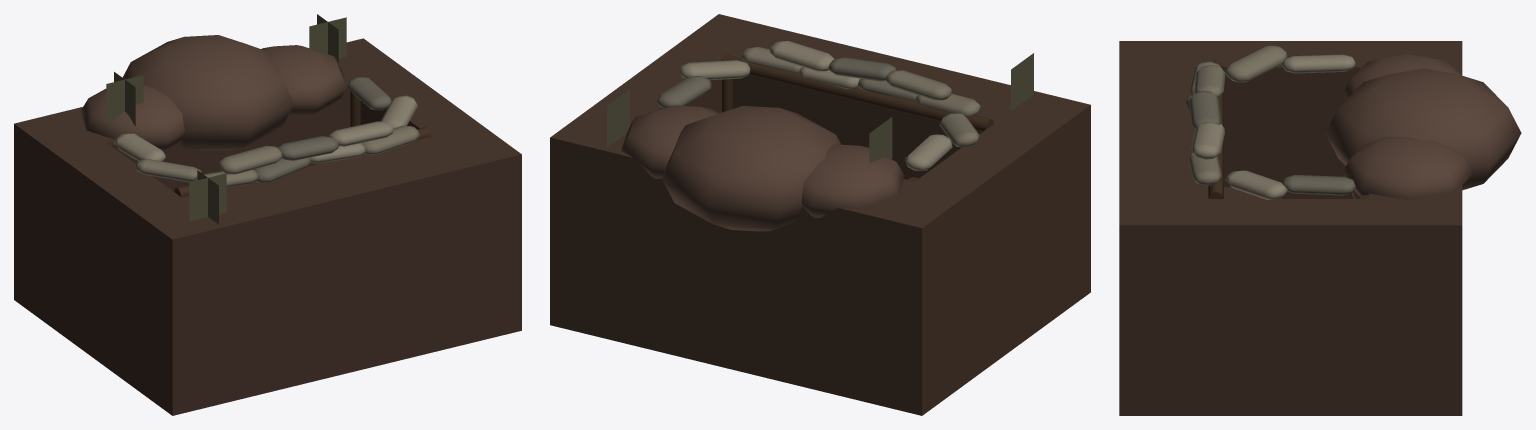
The model's file is foxhole.glb.
3 renders of one model, left to right at view 1: azimuth 30°, elevation 25°; view 2: azimuth 150°, elevation 25°; view 3: azimuth 270°, elevation 25°, orthographic. The views are drawn at different scales.
Visible parts, largest first — view 1: Mesh_TerrainFront, Mesh_TerrainRight, Mesh_TerrainBack, Mesh_SpoilHeapCenter, Mesh_SpoilHeapRight, Mesh_SpoilHeapLeft, Mesh_TerrainLeft, Mesh_Weeds2, Mesh_Weeds3, Mesh_Weeds1, Mesh_Sandbag_F7, Mesh_Sandbag_F6 (+9 smaller); view 2: Mesh_TerrainBack, Mesh_TerrainFront, Mesh_TerrainRight, Mesh_SpoilHeapCenter, Mesh_SpoilHeapRight, Mesh_TerrainLeft, Mesh_SpoilHeapLeft, Mesh_LipLog, Mesh_Sandbag_F5, Mesh_Sandbag_F7, Mesh_Sandbag_L1, Mesh_Sandbag_F6 (+10 smaller); view 3: Mesh_TerrainLeft, Mesh_TerrainFront, Mesh_TerrainBack, Mesh_TerrainRight, Mesh_SpoilHeapCenter, Mesh_SpoilHeapLeft, Mesh_SpoilHeapRight, Mesh_Sandbag_R1, Mesh_Sandbag_L2, Mesh_Sandbag_R2, Mesh_Sandbag_L1, Mesh_Sandbag_F5 (+4 smaller).
Boxes of the visible parts, left/top/right/bottom form: Mesh_TerrainFront: left=129, top=122, right=521, bottom=415; Mesh_TerrainRight: left=57, top=143, right=178, bottom=383; Mesh_TerrainBack: left=14, top=38, right=405, bottom=331; Mesh_SpoilHeapCenter: left=122, top=35, right=293, bottom=150; Mesh_SpoilHeapRight: left=80, top=85, right=184, bottom=150; Mesh_SpoilHeapLeft: left=261, top=45, right=347, bottom=115; Mesh_TerrainLeft: left=360, top=70, right=478, bottom=134; Mesh_Weeds2: left=189, top=170, right=226, bottom=224; Mesh_Weeds3: left=106, top=72, right=143, bottom=126; Mesh_Weeds1: left=309, top=14, right=346, bottom=63; Mesh_Sandbag_F7: left=218, top=145, right=282, bottom=174; Mesh_Sandbag_F6: left=278, top=136, right=338, bottom=160; Mesh_TerrainBack: left=550, top=104, right=967, bottom=415; Mesh_TerrainFront: left=673, top=14, right=1090, bottom=325; Mesh_TerrainRight: left=915, top=126, right=1044, bottom=381; Mesh_SpoilHeapCenter: left=662, top=106, right=841, bottom=231; Mesh_SpoilHeapRight: left=801, top=144, right=904, bottom=217; Mesh_TerrainLeft: left=596, top=48, right=721, bottom=114; Mesh_SpoilHeapLeft: left=621, top=105, right=718, bottom=178; Mesh_LipLog: left=721, top=55, right=993, bottom=132; Mesh_Sandbag_F5: left=769, top=41, right=834, bottom=71; Mesh_Sandbag_F7: left=885, top=70, right=952, bottom=100; Mesh_Sandbag_L1: left=679, top=60, right=750, bottom=80; Mesh_Sandbag_F6: left=828, top=57, right=896, bottom=81; Mesh_TerrainLeft: left=1213, top=199, right=1368, bottom=415; Mesh_TerrainFront: left=1119, top=41, right=1212, bottom=415; Mesh_TerrainBack: left=1368, top=41, right=1462, bottom=415; Mesh_TerrainRight: left=1213, top=41, right=1368, bottom=198; Mesh_SpoilHeapCenter: left=1325, top=68, right=1521, bottom=190; Mesh_SpoilHeapLeft: left=1342, top=136, right=1472, bottom=200; Mesh_SpoilHeapRight: left=1342, top=54, right=1460, bottom=99; Mesh_Sandbag_R1: left=1225, top=45, right=1287, bottom=82; Mesh_Sandbag_L2: left=1282, top=175, right=1355, bottom=195; Mesh_Sandbag_R2: left=1282, top=54, right=1355, bottom=73; Mesh_Sandbag_L1: left=1225, top=170, right=1287, bottom=199; Mesh_Sandbag_F5: left=1191, top=122, right=1225, bottom=159.
Size of what is drawn, in the model's own units: 2.8 by 1.75 by 2.58.
